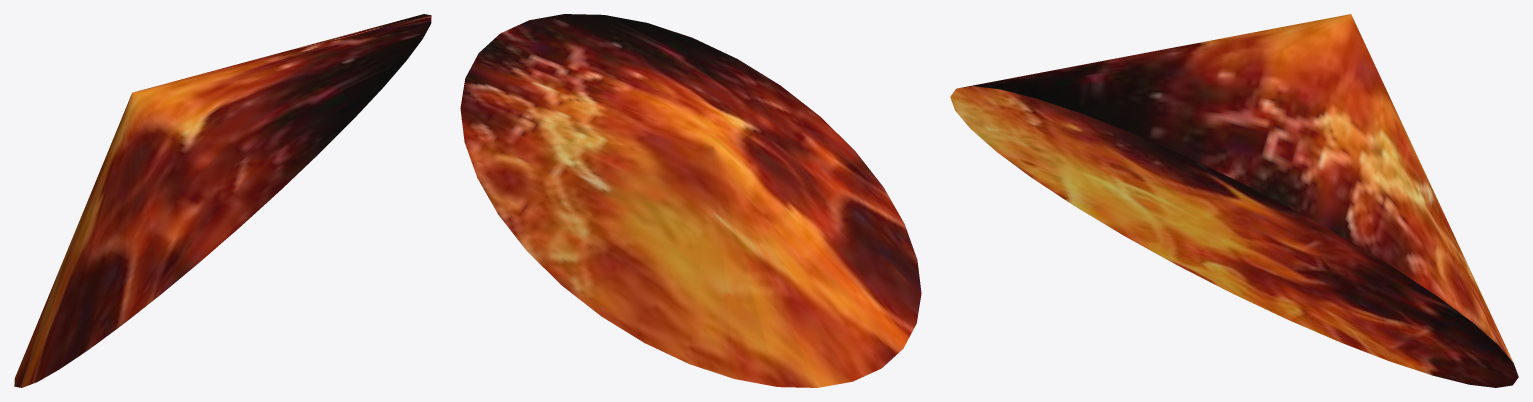
Rendered from ResultEarth14.obj.
3 renders of one model, left to right at view 1: azimuth 30°, elevation 25°; view 2: azimuth 150°, elevation 25°; view 3: azimuth 270°, elevation 25°, orthographic. The views are drawn at different scales.
Visible parts, largest first — view 1: 円錐; view 2: 円錐; view 3: 円錐.
Boxes of the visible parts, x1,y1,x2,y2 form: 円錐: (14,14,431,387); 円錐: (460,14,921,387); 円錐: (950,14,1518,387).
Size of the model in its own units: 0.1401 by 0.0878 by 0.0899.
1 material, 1 textured.
